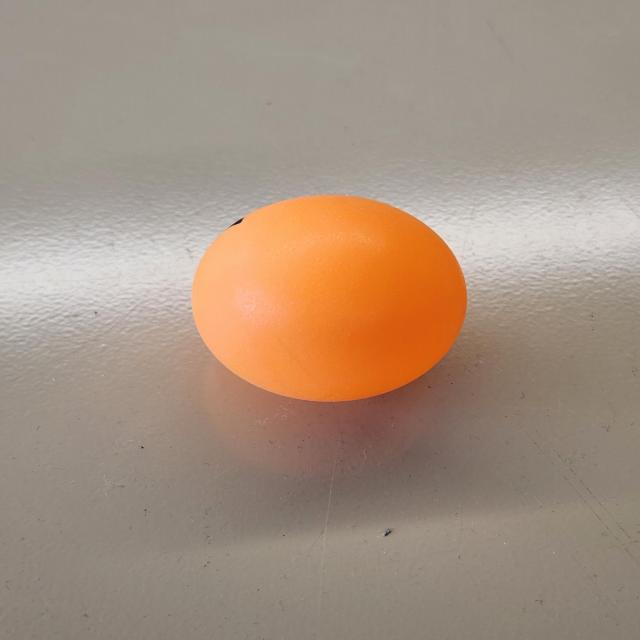oball: (182, 188, 473, 419)
